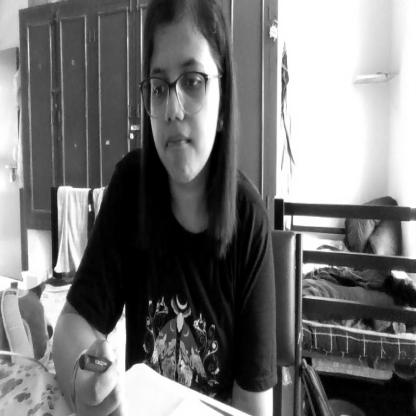Normal: (144, 0, 225, 192)
